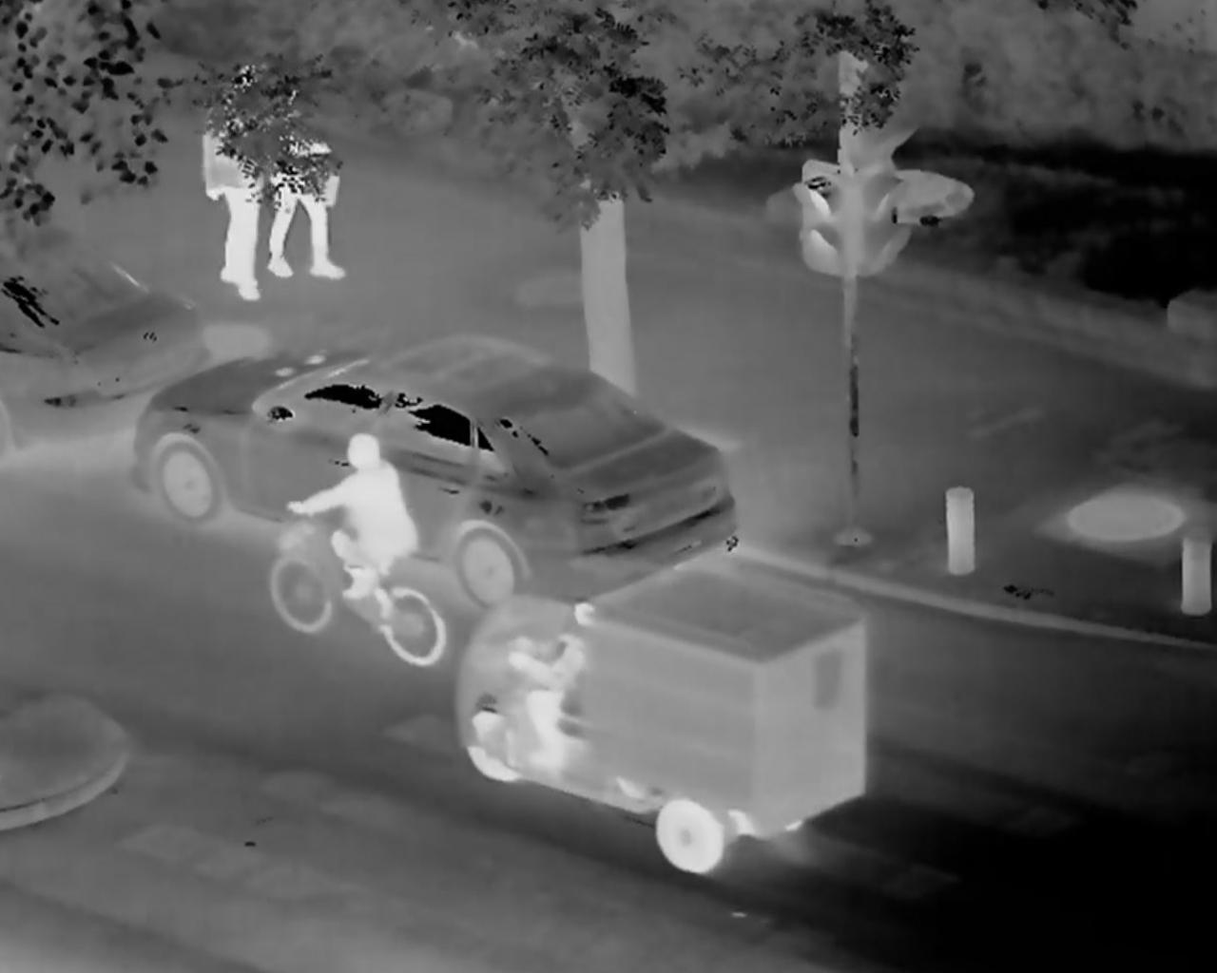person: (289, 429, 419, 650), (511, 594, 590, 791), (279, 83, 338, 276), (215, 69, 263, 296)
